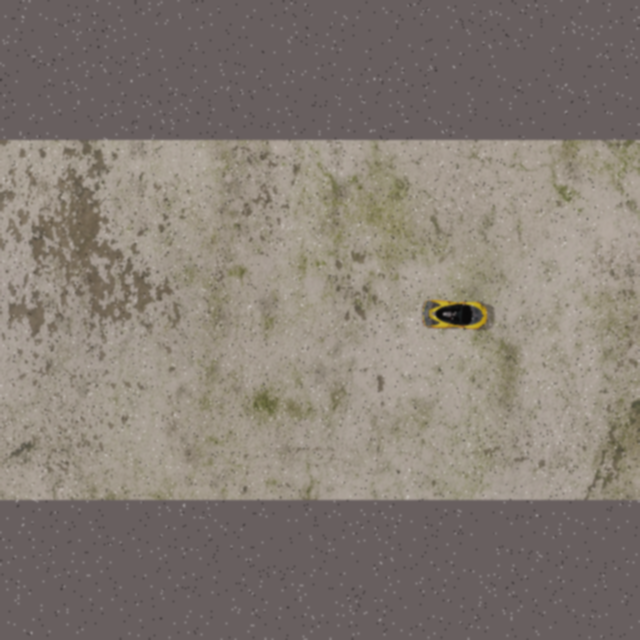car: (419, 298, 491, 331)
